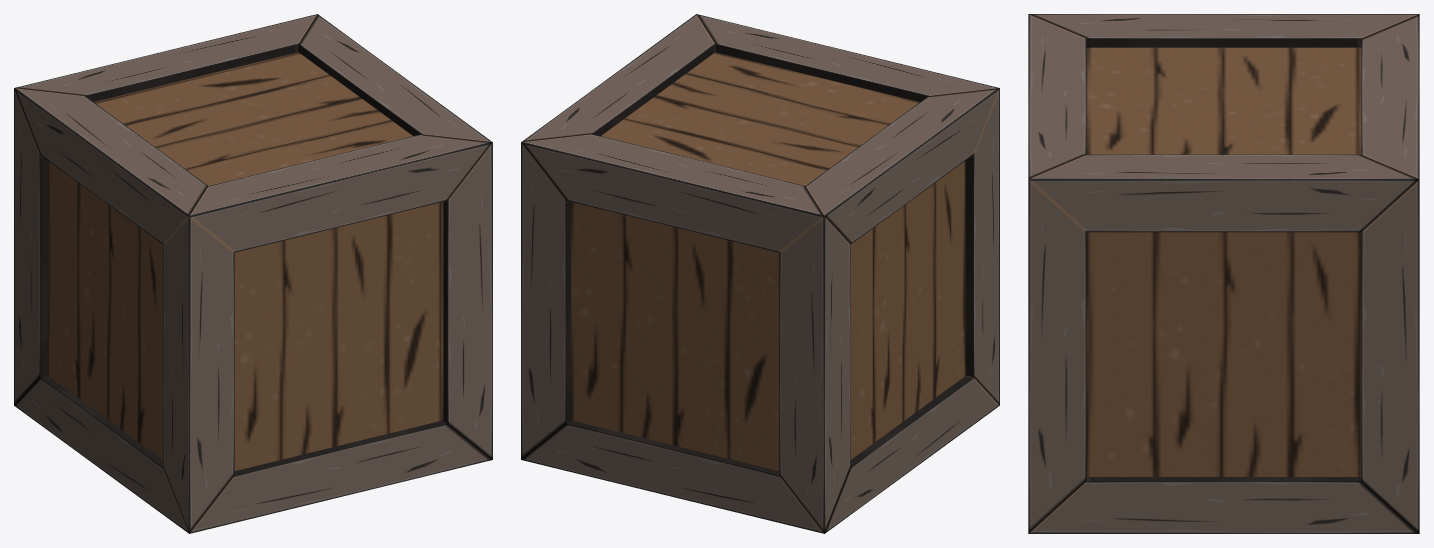
The model's file is CRATE02.fbx.
3 views of the same model, side by side, from view 1: azimuth 30°, elevation 25°; view 2: azimuth 150°, elevation 25°; view 3: azimuth 270°, elevation 25° (orthographic). The views are drawn at different scales.
Visible parts, largest first — view 1: props_crate_02.023, props_crate_02.024, props_crate_02.021, props_crate_02.006, props_crate_02.016, props_crate_02.011, props_crate_02.025, props_crate_02.022, props_crate_02.008, props_crate_02.018, props_crate_02.013, props_crate_02.019 (+8 smaller); view 2: props_crate_02.008, props_crate_02.009, props_crate_02.006, props_crate_02.021, props_crate_02.011, props_crate_02.016, props_crate_02.010, props_crate_02.007, props_crate_02.023, props_crate_02.013, props_crate_02.018, props_crate_02.014 (+8 smaller); view 3: props_crate_02.009, props_crate_02.024, props_crate_02.014, props_crate_02.019, props_crate_02.008, props_crate_02.023, props_crate_02.013, props_crate_02.018, props_crate_02.011, props_crate_02.016, props_crate_02.007, props_crate_02.022 (+8 smaller).
Boxes of the visible parts, left/top/right/bottom form: props_crate_02.023: left=259, top=136, right=441, bottom=508; props_crate_02.024: left=365, top=119, right=492, bottom=471; props_crate_02.021: left=142, top=171, right=234, bottom=533; props_crate_02.006: left=14, top=88, right=105, bottom=426; props_crate_02.016: left=101, top=141, right=187, bottom=511; props_crate_02.011: left=43, top=109, right=146, bottom=469; props_crate_02.025: left=224, top=162, right=305, bottom=521; props_crate_02.022: left=189, top=170, right=269, bottom=533; props_crate_02.008: left=116, top=26, right=282, bottom=101; props_crate_02.018: left=218, top=106, right=364, bottom=161; props_crate_02.013: left=177, top=76, right=323, bottom=131; props_crate_02.019: left=325, top=78, right=463, bottom=135; props_crate_02.008: left=572, top=136, right=754, bottom=508; props_crate_02.009: left=521, top=119, right=648, bottom=471; props_crate_02.006: left=779, top=171, right=871, bottom=533; props_crate_02.021: left=908, top=88, right=999, bottom=426; props_crate_02.011: left=826, top=141, right=912, bottom=511; props_crate_02.016: left=867, top=109, right=970, bottom=469; props_crate_02.010: left=708, top=162, right=789, bottom=521; props_crate_02.007: left=744, top=170, right=824, bottom=533; props_crate_02.023: left=731, top=26, right=897, bottom=101; props_crate_02.013: left=649, top=106, right=795, bottom=161; props_crate_02.018: left=690, top=76, right=836, bottom=131; props_crate_02.014: left=550, top=78, right=688, bottom=135; props_crate_02.009: left=1315, top=135, right=1419, bottom=533; props_crate_02.024: left=1028, top=135, right=1132, bottom=533; props_crate_02.014: left=1224, top=144, right=1353, bottom=533; props_crate_02.019: left=1094, top=144, right=1223, bottom=533; props_crate_02.008: left=1315, top=69, right=1419, bottom=151; props_crate_02.023: left=1028, top=69, right=1132, bottom=151; props_crate_02.013: left=1224, top=86, right=1315, bottom=144; props_crate_02.018: left=1132, top=86, right=1223, bottom=144; props_crate_02.011: left=1224, top=14, right=1353, bottom=38; props_crate_02.016: left=1094, top=14, right=1223, bottom=38; props_crate_02.007: left=1315, top=14, right=1419, bottom=66; props_crate_02.022: left=1028, top=14, right=1132, bottom=66.
Bounding box in the file's own units: 85 × 85 × 85.
1 material, 1 textured.
